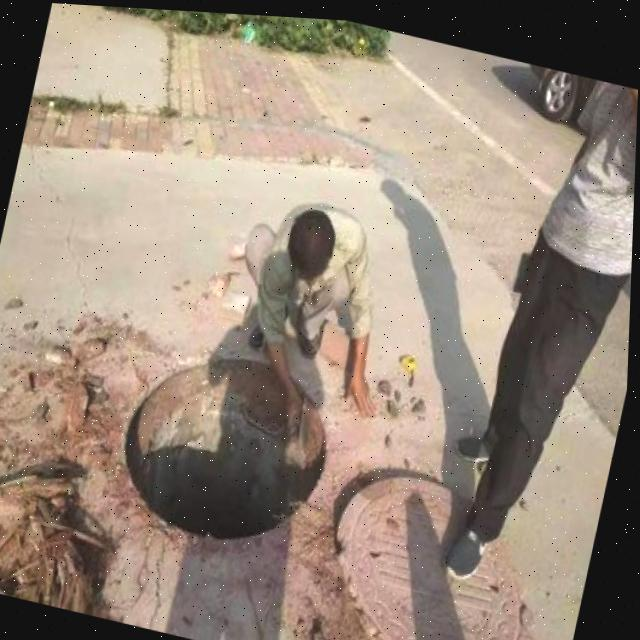manhole: (100, 321, 346, 562)
